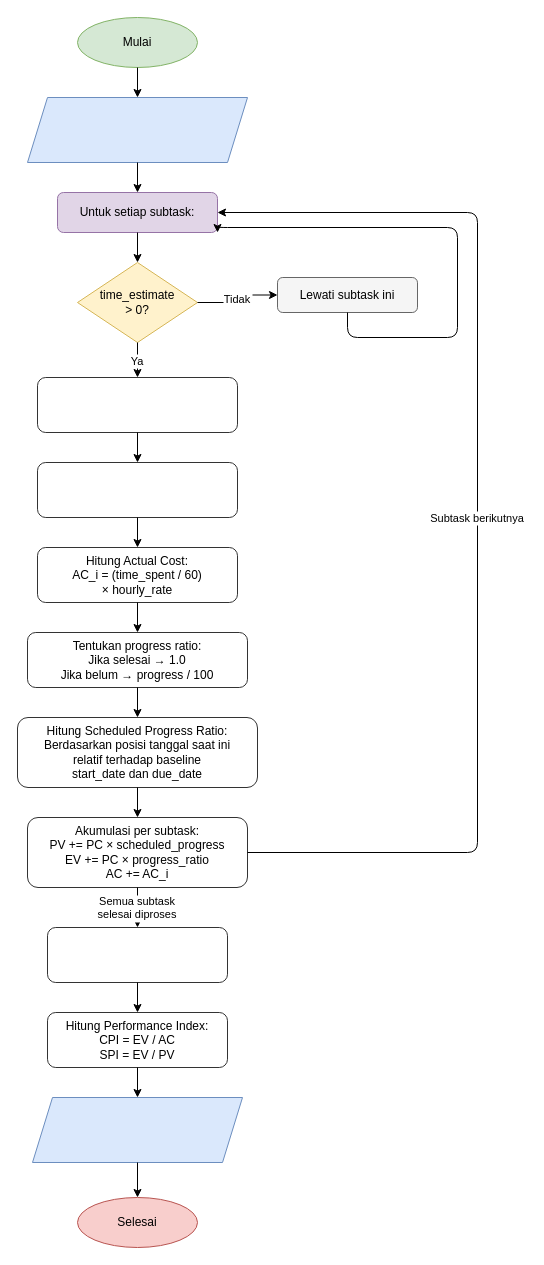
Some shapes in this 544 by 1265 pixel diagram are drawn without their labels. Here are the shapes that lost their labels. From the top down, the centre of each, then its label:
the point at 137,129: Ambil seluruh subtask dalam workspace beserta assignee dan time_spent
the point at 137,404: Tentukan hourly rate: rata-rata hourly_rate assignee, atau default
the point at 137,490: Hitung Planned Cost: PC = (time_estimate / 60) × hourly_rate
the point at 137,954: Hitung Variance: CV = EV − AC SV = EV − PV
the point at 137,1129: Tampilkan hasil EVM: PV, EV, AC, CV, SV, CPI, SPI
